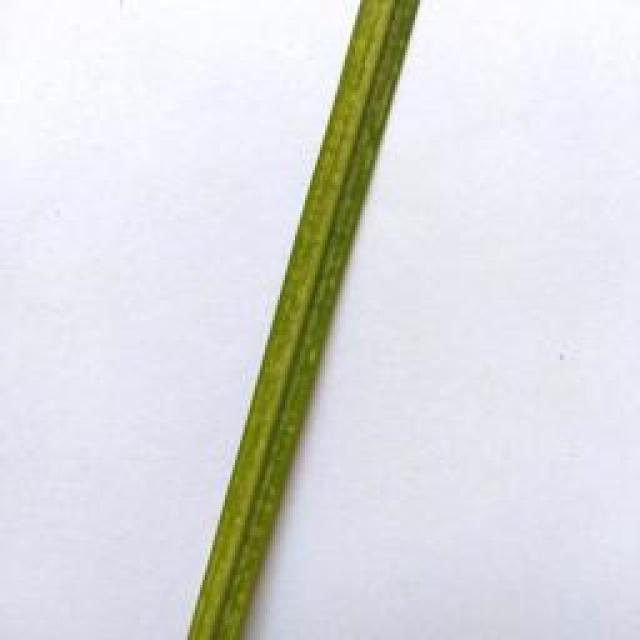Healthy-Plant: (187, 0, 420, 640)
